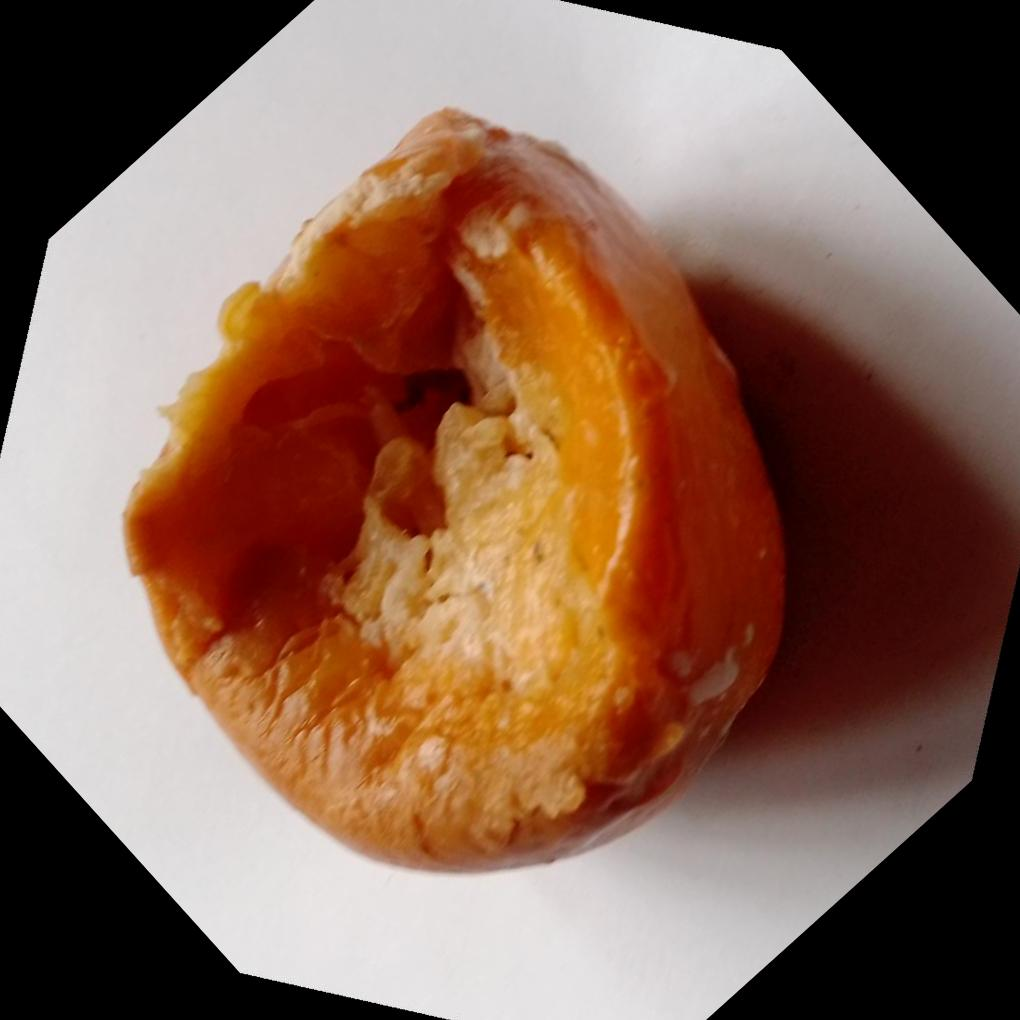FreshOrange: (121, 107, 791, 877)
